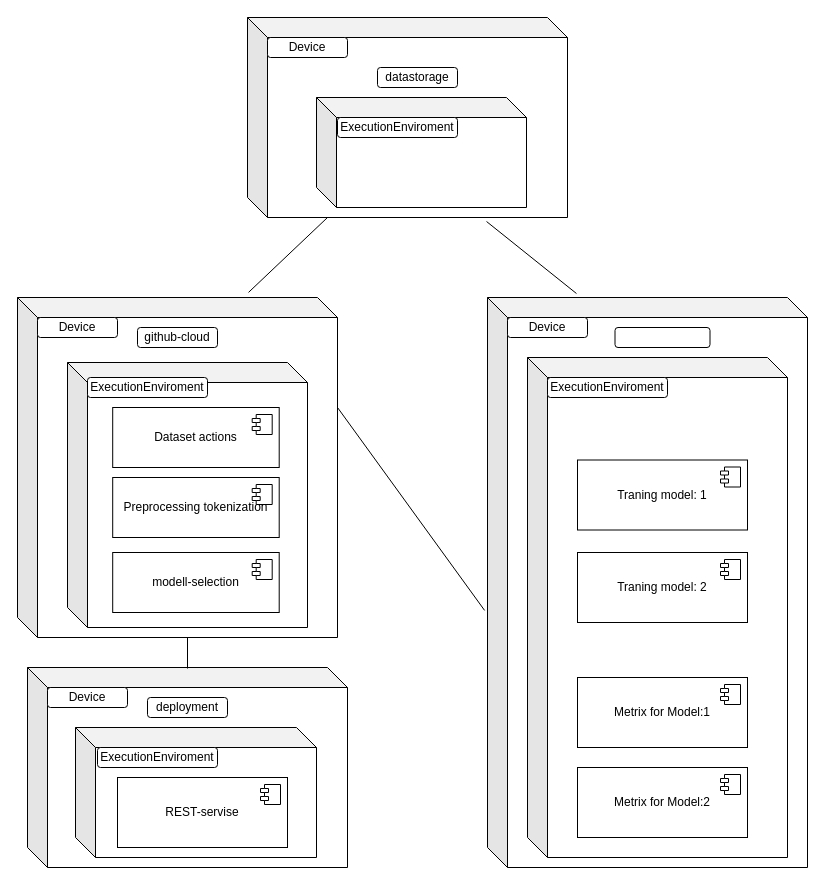
Image size: 825x885. Some labels were removed from this diagram. The shapes that lost their labels are listed below. From the top down, each one's box as (x1, y1, x2, y2) in pixels, then its label:
(316, 96, 526, 208): GitHubActions
(614, 326, 710, 348): Learning-station
